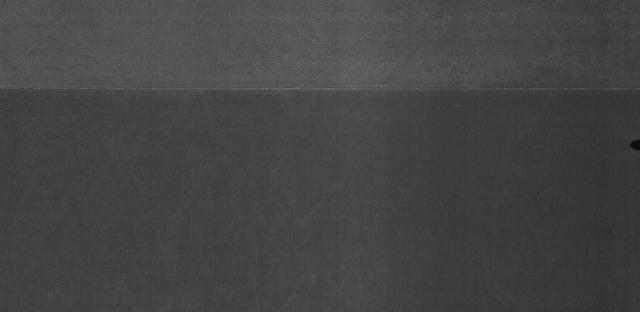punching_hole: (628, 135, 640, 152)
welding_line: (0, 83, 640, 102)
